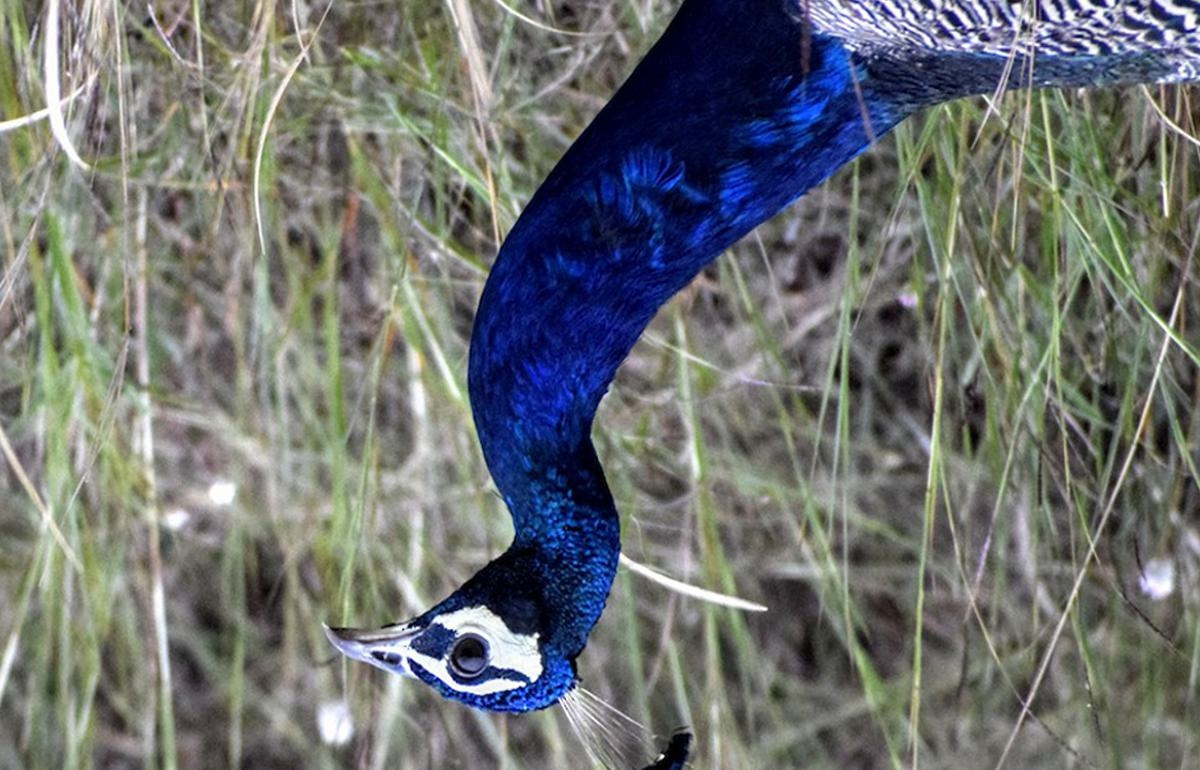peacock: (334, 1, 1153, 733)
